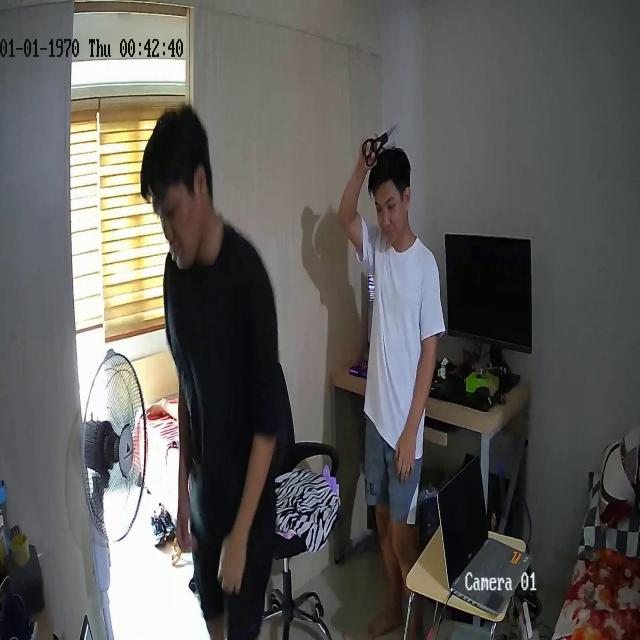scissor: (362, 124, 397, 168)
